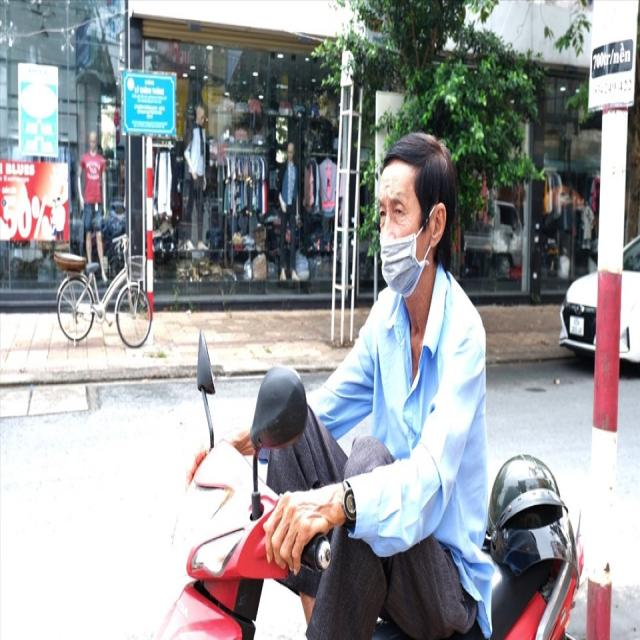no_helmet: (369, 120, 460, 312)
